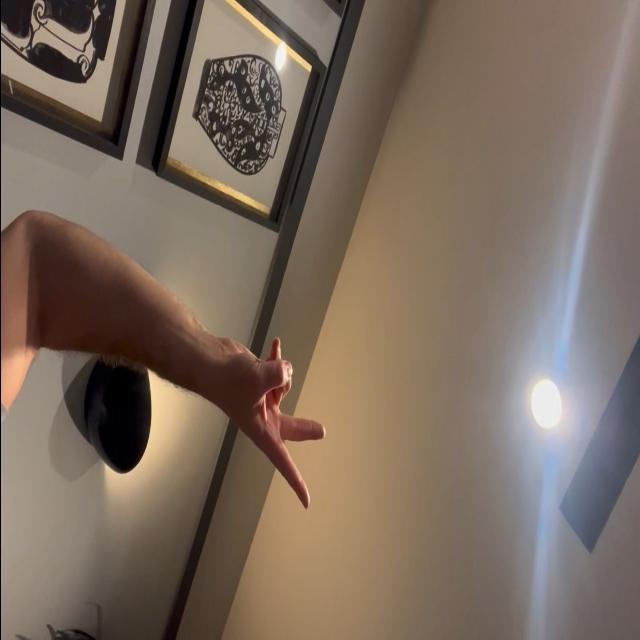Scissors: (223, 334, 325, 514)
